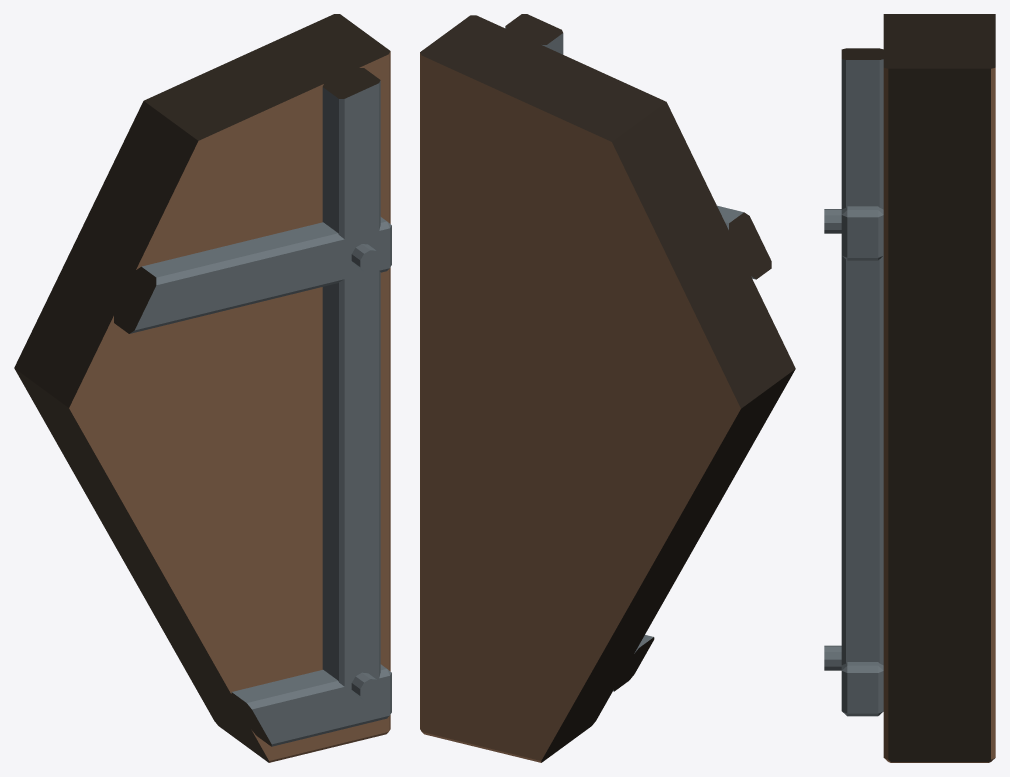
File: SM_DoorShard_01_41.fbx
3 views of the same model, side by side, from view 1: azimuth 30°, elevation 25°; view 2: azimuth 150°, elevation 25°; view 3: azimuth 270°, elevation 25° (orthographic). The views are drawn at different scales.
Parts seen in each view (by area): view 1: SM_DoorShard_01_41; view 2: SM_DoorShard_01_41; view 3: SM_DoorShard_01_41.
Boxes of the visible parts, x1,y1,x2,y2 form: SM_DoorShard_01_41: [14, 14, 391, 762]; SM_DoorShard_01_41: [420, 14, 795, 762]; SM_DoorShard_01_41: [824, 14, 995, 762].
Bounding box in the file's own units: 54.45 × 24.5 × 110.
